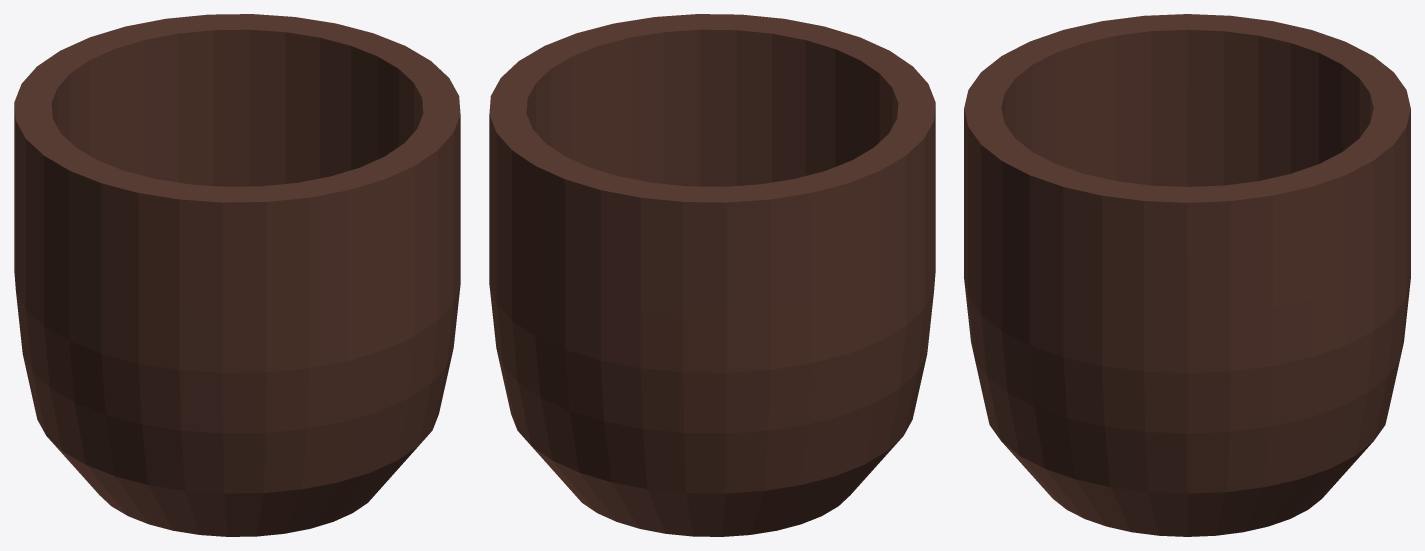
The model's file is cup.fbx.
The picture shows the model from 3 angles, left to right: view 1: azimuth 30°, elevation 25°; view 2: azimuth 150°, elevation 25°; view 3: azimuth 270°, elevation 25°; orthographic projection.
Parts seen in each view (by area): view 1: Cylinder; view 2: Cylinder; view 3: Cylinder.
Boxes of the visible parts, bbox=[...] form: Cylinder: bbox=[14, 14, 460, 536]; Cylinder: bbox=[489, 14, 935, 536]; Cylinder: bbox=[964, 14, 1410, 536].
Bounding box in the file's own units: 240 × 218 × 240.
